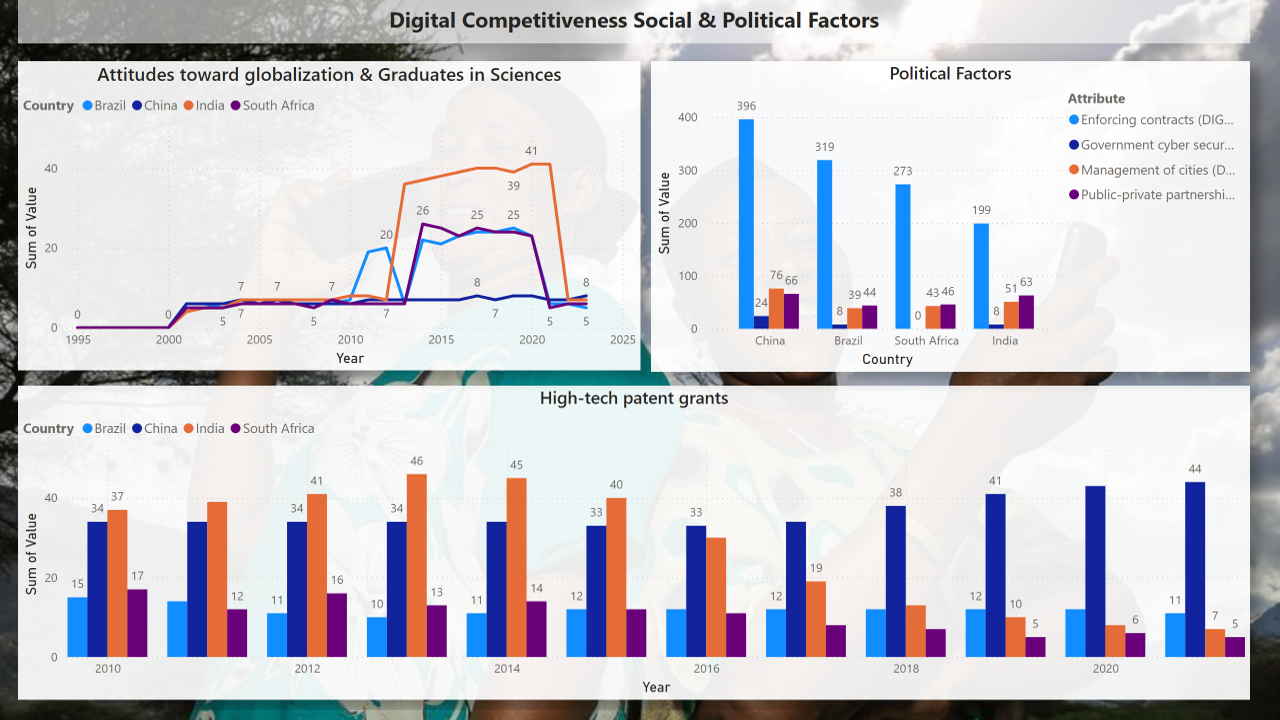

What the dashboard file says about the page in this screenshot:
{"tool":"powerbi","page":{"name":"Social and Political Factors","canvas":[1280,720],"ordinal":2},"visuals":[{"type":"clusteredColumnChart","title":"High-tech patent grants ","fields":{"Category":["Values_Result.Year"],"Y":["Sum(Values_Result.Value)"],"Series":["Values_Result.Country"]},"box":[17.8,390.9,1232.1,318.4],"z":0},{"type":"textbox","box":[17.8,0,1232.1,44],"z":1000},{"type":"lineChart","title":"Attitudes toward globalization &  Graduates in Sciences","fields":{"Category":["Values_Result.Year"],"Y":["Sum(Values_Result.Value)"],"Series":["Values_Result.Country"]},"box":[17.8,61.8,622.6,313.7],"z":2000},{"type":"clusteredColumnChart","title":"Political Factors","fields":{"Category":["Values_Result.Country"],"Y":["Sum(Values_Result.Value)"],"Series":["Values_Result.Attribute"]},"box":[651.1,61.8,598.8,314.9],"z":3000}]}

Visuals, with their boxes in screenshot pixels (x1, y1, x2, y2), scaled from the page's 1280x720 canvas onto the 1280x720 screenshot:
"High-tech patent grants " clusteredColumnChart: {"x1": 18, "y1": 391, "x2": 1250, "y2": 709}
textbox: {"x1": 18, "y1": 0, "x2": 1250, "y2": 44}
"Attitudes toward globalization &  Graduates in Sciences" lineChart: {"x1": 18, "y1": 62, "x2": 640, "y2": 376}
"Political Factors" clusteredColumnChart: {"x1": 651, "y1": 62, "x2": 1250, "y2": 377}
